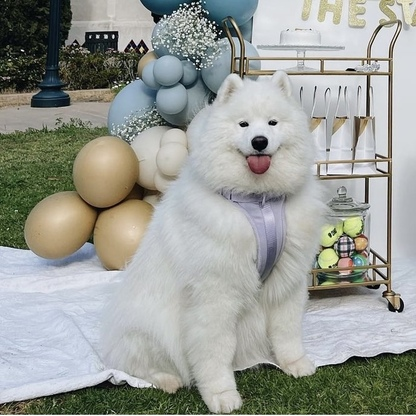samoyed: (82, 64, 332, 416)
